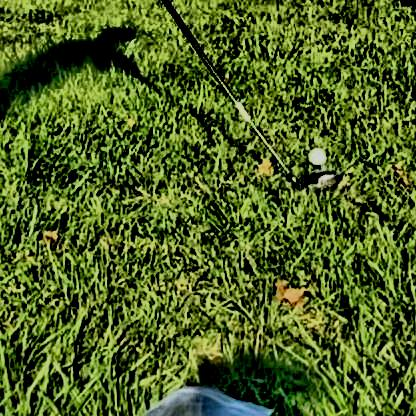golfball: (304, 143, 323, 162)
